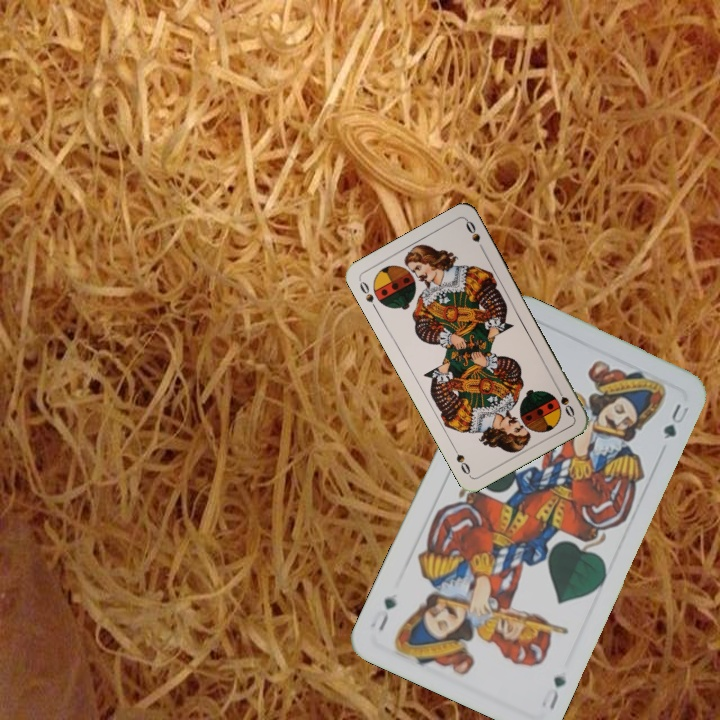GU: (545, 671, 569, 713)
SO: (552, 382, 577, 420), (355, 276, 380, 313)
